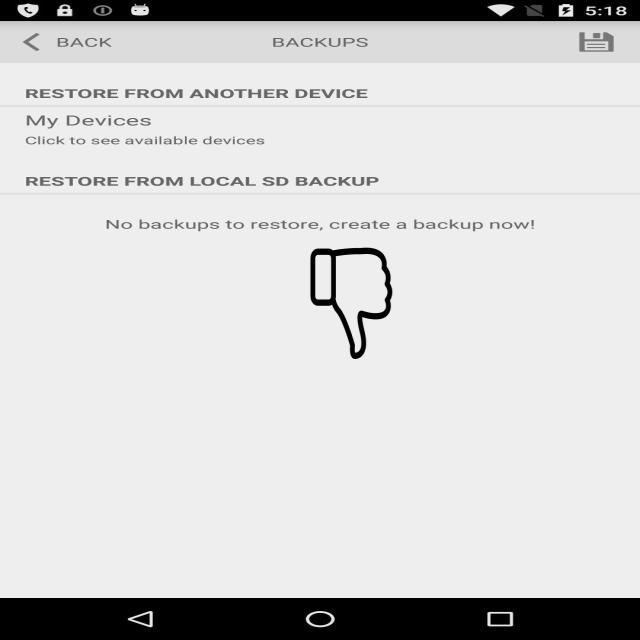obstruction: (310, 248, 394, 359)
